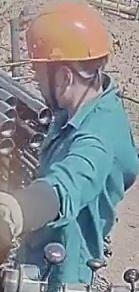gloves: (0, 189, 38, 269)
helmet: (25, 3, 114, 63)
vest: (34, 76, 138, 278)
